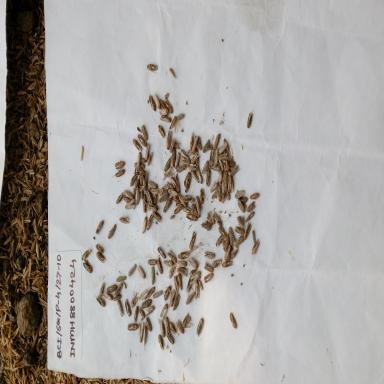pbw: (182, 311, 192, 333), (174, 150, 183, 174), (145, 60, 159, 75), (106, 222, 117, 241), (234, 232, 247, 248), (144, 285, 157, 301), (159, 301, 169, 321), (212, 131, 222, 151), (250, 238, 261, 256), (171, 292, 180, 314), (184, 290, 196, 306), (148, 92, 156, 116), (123, 297, 132, 318), (194, 194, 202, 217), (224, 158, 237, 172), (228, 310, 237, 330), (242, 221, 251, 241), (222, 136, 231, 156), (190, 202, 200, 220), (175, 318, 185, 336), (245, 110, 254, 130), (182, 169, 191, 189), (94, 250, 106, 265), (95, 294, 106, 310), (204, 164, 212, 186), (116, 297, 124, 319), (131, 137, 142, 153), (142, 323, 149, 348), (165, 330, 175, 347), (114, 280, 124, 297), (152, 93, 162, 110), (157, 123, 167, 140), (129, 170, 139, 187), (94, 218, 104, 235), (140, 214, 148, 235), (229, 163, 241, 177), (122, 194, 136, 206), (136, 133, 147, 148), (188, 129, 195, 152), (228, 225, 235, 248), (237, 198, 247, 214), (168, 115, 178, 131), (140, 122, 148, 142), (218, 140, 228, 156), (164, 98, 174, 114), (158, 318, 166, 338), (193, 280, 201, 300), (212, 211, 222, 227), (166, 248, 176, 264), (162, 197, 172, 213), (188, 230, 196, 250), (148, 266, 156, 286), (126, 321, 139, 333), (185, 211, 198, 223), (170, 192, 182, 205), (140, 297, 153, 309), (144, 303, 156, 316), (176, 265, 188, 278), (244, 210, 255, 224), (158, 182, 169, 196), (220, 260, 234, 271), (187, 255, 198, 269), (81, 247, 92, 261), (82, 260, 93, 274), (235, 215, 246, 229), (227, 173, 234, 195), (163, 155, 172, 172), (180, 204, 197, 213), (132, 177, 140, 196), (172, 274, 180, 293), (176, 272, 184, 291), (164, 284, 172, 303), (115, 190, 125, 205), (138, 287, 148, 302), (127, 262, 137, 277), (138, 320, 144, 344), (105, 283, 117, 295), (152, 288, 164, 300), (202, 262, 214, 274), (200, 220, 212, 232), (114, 158, 126, 170), (202, 138, 211, 154), (210, 162, 222, 174), (210, 257, 222, 269), (156, 258, 164, 276), (130, 290, 138, 308), (208, 208, 216, 226), (137, 264, 146, 280), (190, 168, 199, 184), (172, 203, 184, 215), (180, 191, 192, 203), (146, 150, 154, 168), (190, 269, 201, 282), (146, 201, 159, 212), (159, 114, 172, 125), (177, 249, 190, 260), (147, 178, 158, 191), (234, 188, 245, 201), (165, 130, 172, 150), (177, 193, 187, 207), (222, 153, 236, 163), (98, 279, 105, 299), (112, 292, 122, 306), (209, 179, 219, 193), (156, 246, 166, 260), (230, 246, 240, 260), (209, 147, 215, 170), (156, 333, 164, 350), (145, 316, 153, 333), (168, 67, 177, 82), (146, 212, 153, 231), (135, 151, 142, 170), (197, 166, 204, 185), (203, 272, 214, 284), (249, 190, 261, 201), (118, 215, 129, 227), (146, 256, 158, 267), (94, 242, 105, 254), (149, 186, 160, 198), (220, 182, 226, 204), (142, 192, 148, 214), (158, 192, 169, 204), (172, 146, 178, 168), (246, 200, 256, 213), (186, 146, 199, 156), (175, 258, 188, 268), (115, 273, 128, 283), (210, 188, 220, 201), (173, 173, 181, 189), (168, 264, 176, 280), (168, 321, 177, 335), (134, 185, 140, 206), (164, 315, 170, 336), (222, 234, 229, 252), (215, 234, 224, 248), (199, 186, 206, 204), (192, 134, 199, 152), (234, 225, 245, 236), (124, 188, 135, 199), (144, 142, 150, 162), (159, 106, 169, 118), (164, 166, 174, 178), (170, 287, 176, 307), (202, 159, 210, 174), (114, 168, 126, 178), (213, 147, 219, 167), (176, 163, 188, 173), (162, 259, 174, 269), (79, 143, 85, 163), (204, 250, 216, 260), (167, 188, 179, 198), (169, 137, 176, 154), (218, 226, 227, 239), (133, 161, 146, 170), (190, 151, 198, 165), (224, 245, 231, 261), (206, 211, 213, 227), (250, 227, 256, 245), (225, 184, 231, 202), (153, 211, 162, 223), (224, 158, 230, 176), (148, 189, 154, 207), (133, 304, 139, 322), (138, 307, 146, 320), (189, 264, 197, 277), (179, 154, 189, 164), (104, 292, 113, 303), (177, 111, 186, 122), (198, 276, 204, 292), (217, 169, 223, 185), (141, 174, 147, 190), (195, 151, 200, 170), (170, 175, 176, 189), (218, 159, 224, 171), (159, 97, 166, 107)
